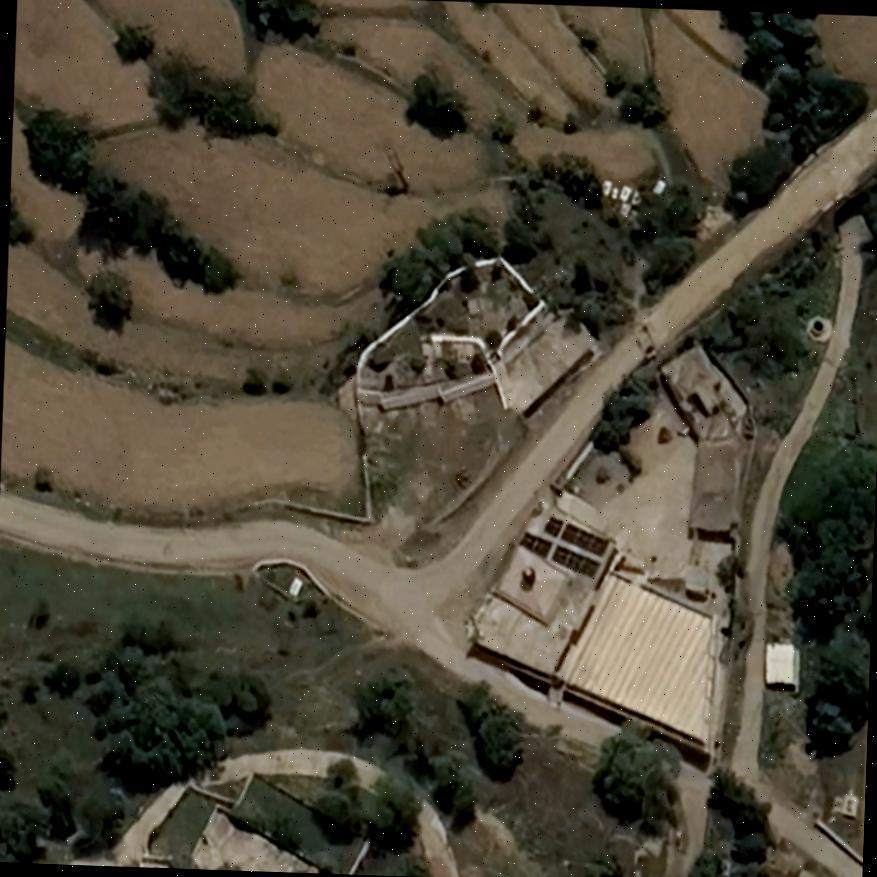Solarpanel: (548, 543, 600, 578), (558, 522, 608, 557), (516, 530, 551, 557), (543, 516, 563, 537)
